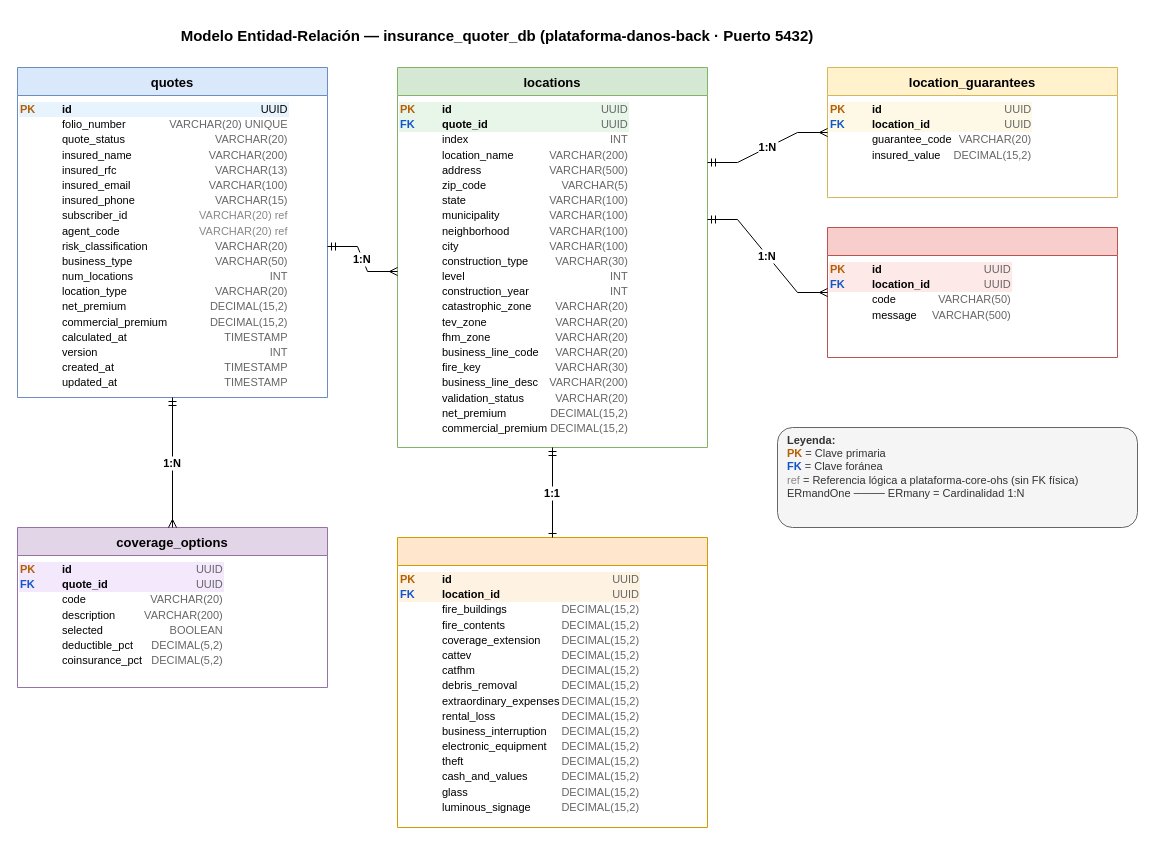
Some shapes in this 1155 by 867 pixel diagram are drawn without their labels. The shapes that lost their labels are listed below. From the top down, each one's box as (x1, y1, x2, y2) in pixels, then its label:
(826, 226, 1118, 358): location_blocking_alerts
(396, 536, 708, 828): premium_breakdown
